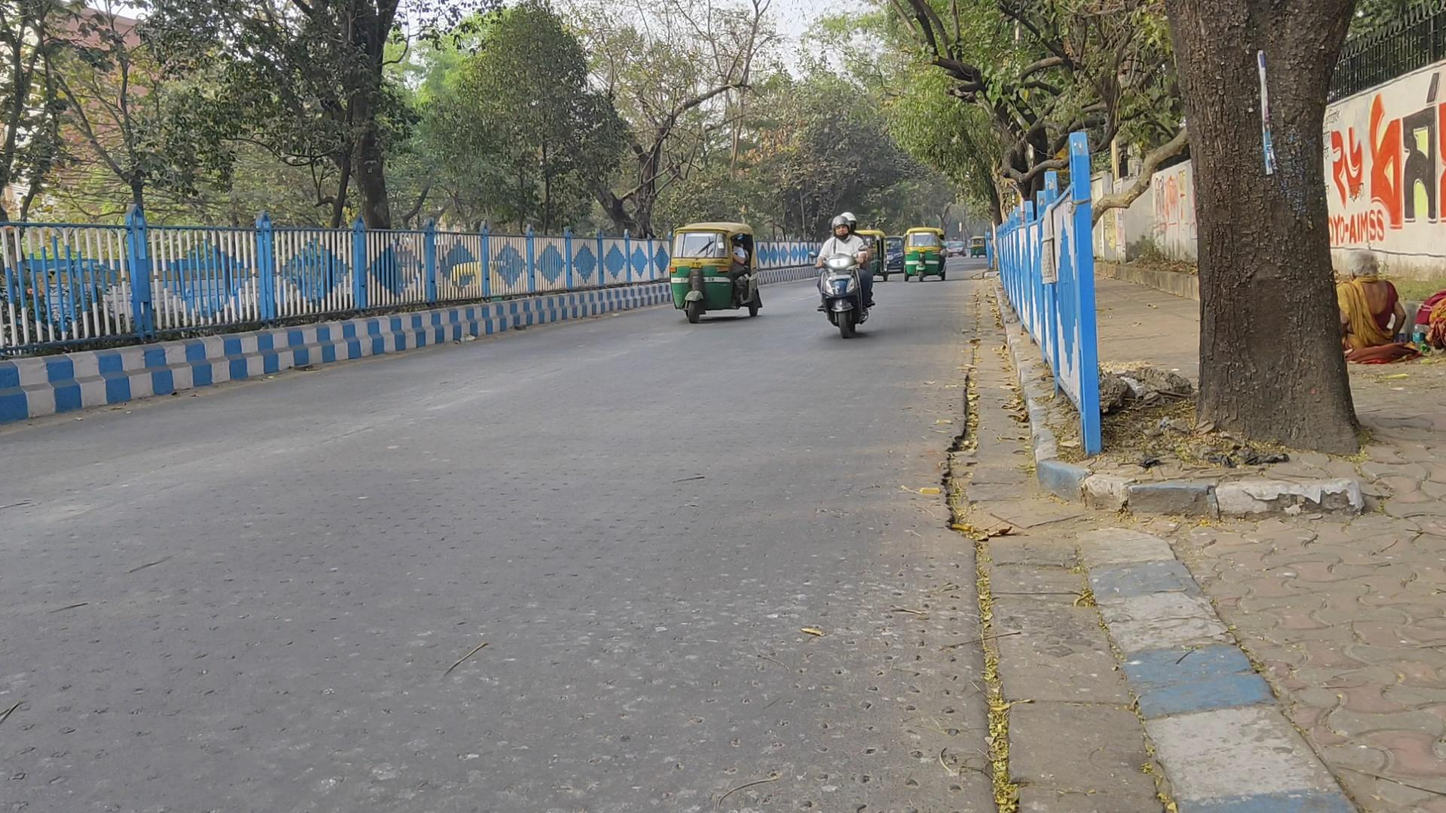Auto: (667, 220, 764, 326), (898, 221, 947, 287), (969, 236, 987, 259)
bike: (817, 206, 874, 338)
car: (947, 241, 966, 257)
